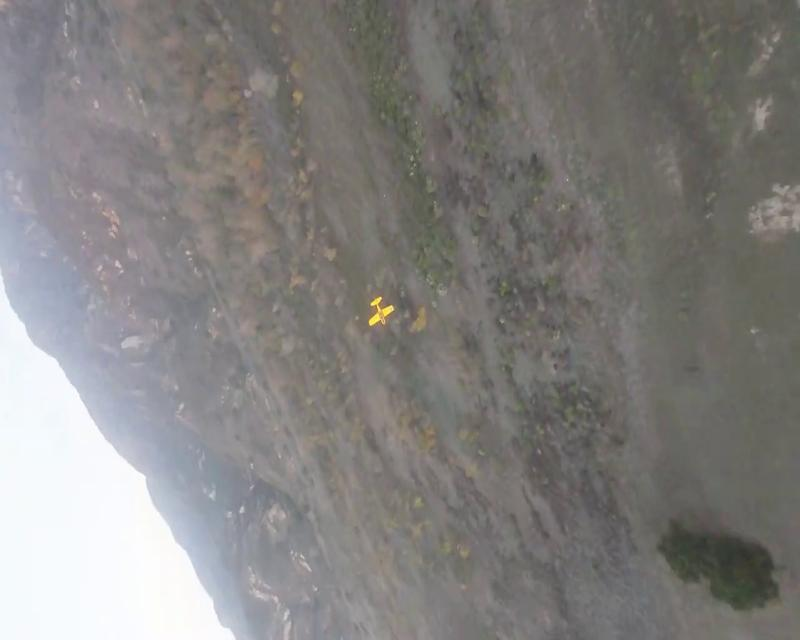UAV: (366, 294, 395, 327)
